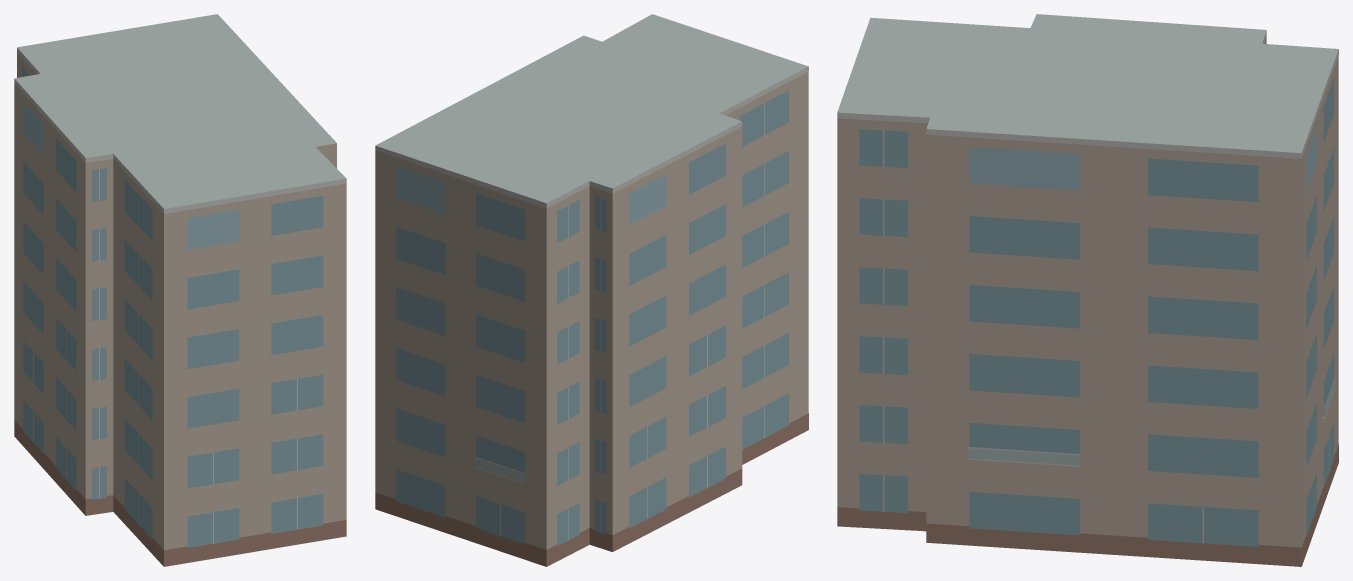
The model's file is survey-upis-32515286.glb.
The picture shows the model from 3 angles, left to right: view 1: azimuth 30°, elevation 25°; view 2: azimuth 150°, elevation 25°; view 3: azimuth 270°, elevation 25°; orthographic projection. The views are drawn at different scales.
Visible parts, largest first — view 1: survey-upis-32515286.tmp; view 2: survey-upis-32515286.tmp; view 3: survey-upis-32515286.tmp.
Part boxes in pixels (x1=…): survey-upis-32515286.tmp: x1=14, y1=14, x2=346, y2=566; survey-upis-32515286.tmp: x1=375, y1=14, x2=808, y2=566; survey-upis-32515286.tmp: x1=837, y1=14, x2=1338, y2=566.
Size of the model in its own units: 12.74 by 17.65 by 19.4.
